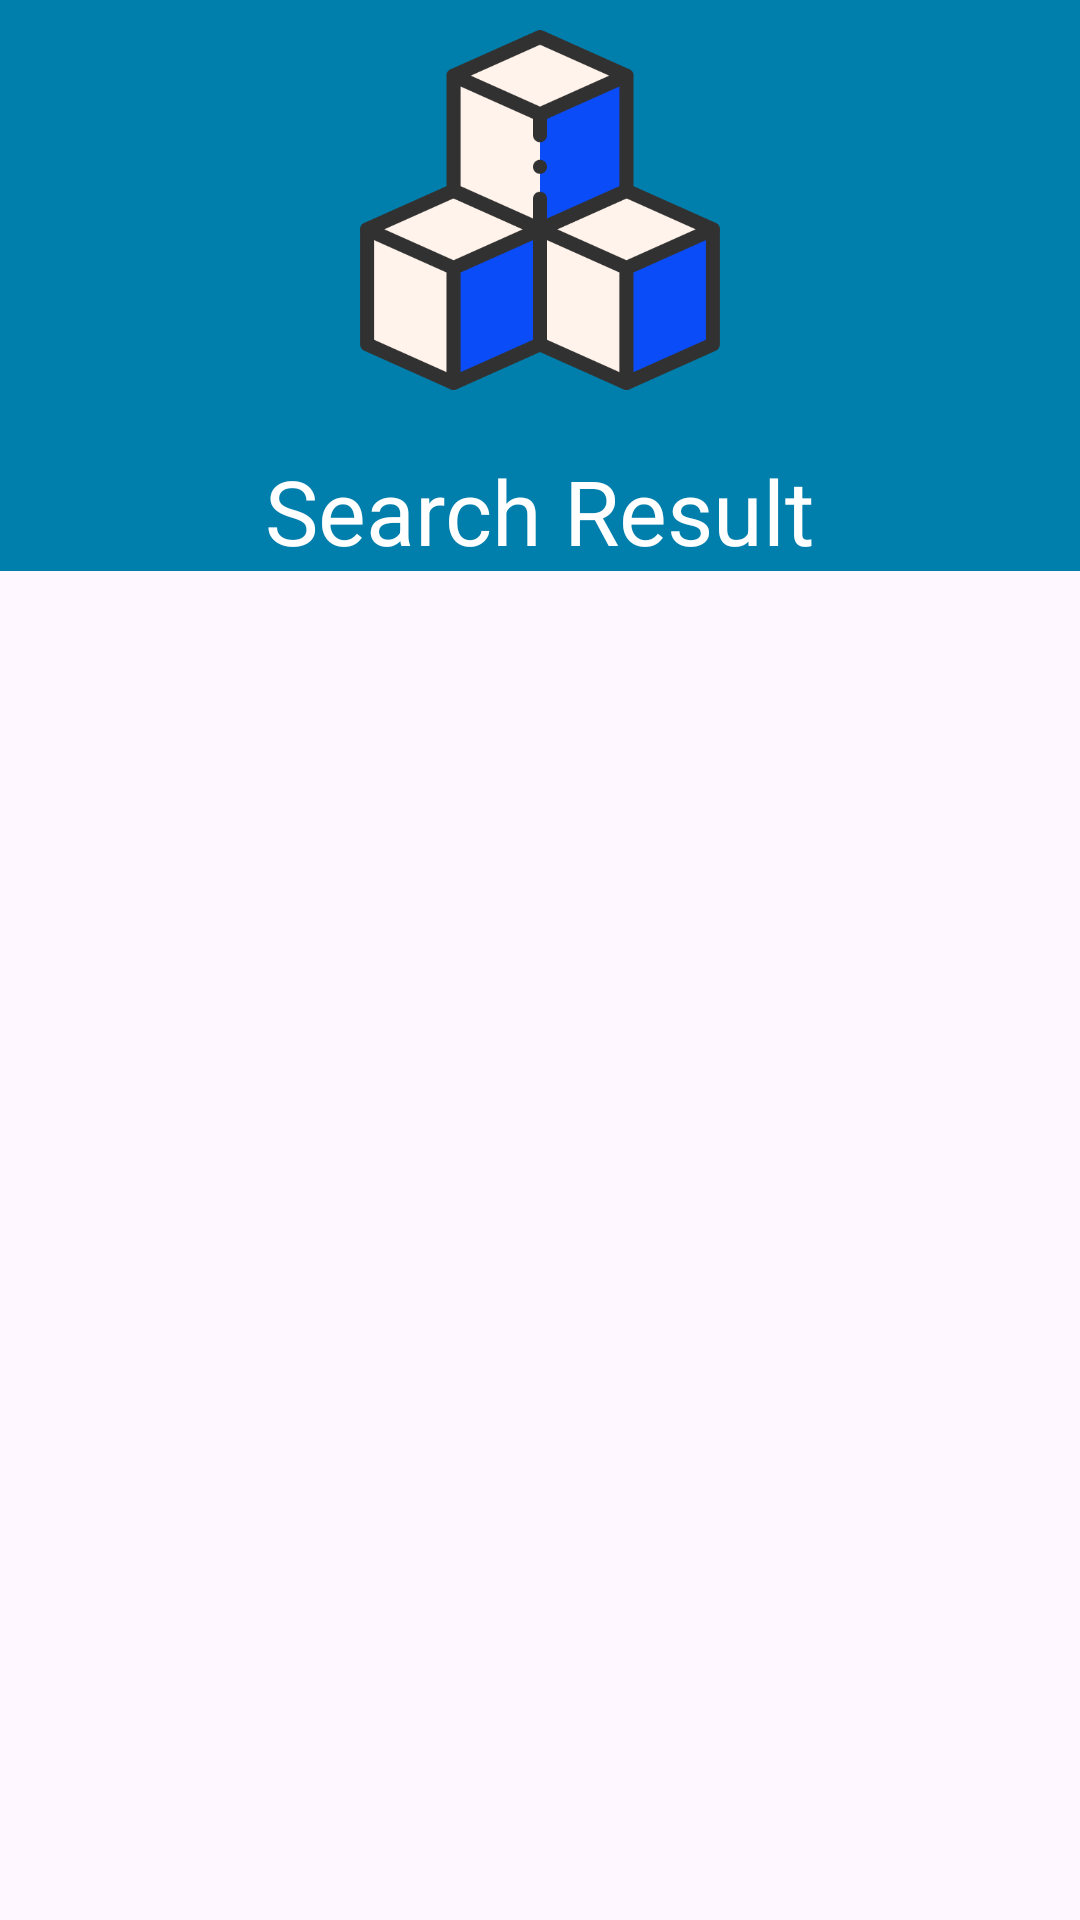

Named icons in this screenshot (1080*1920) and their bounding boxes, (x1, y1, x2, y2):
cubo: (360, 30, 720, 390)
